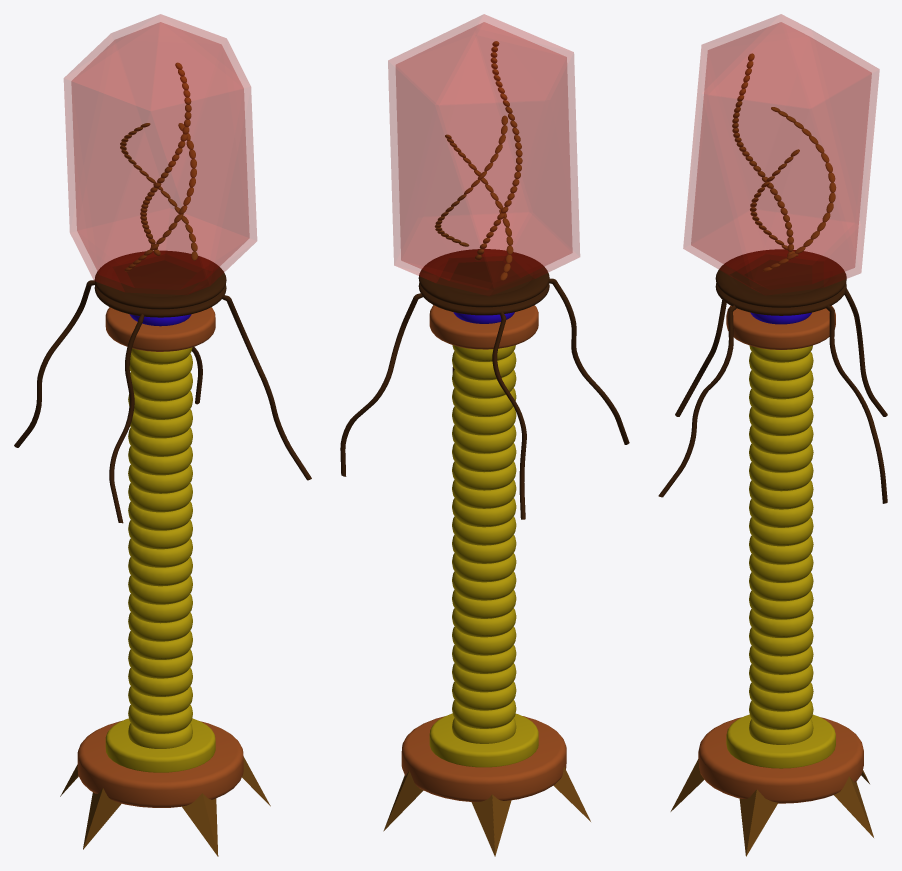
The model's file is cuerpoBac.obj.
3 views of the same model, side by side, from view 1: azimuth 30°, elevation 25°; view 2: azimuth 150°, elevation 25°; view 3: azimuth 270°, elevation 25° (orthographic).
Visible parts, largest first — view 1: Icosphere_Material.011, Torus.023_Material.009, Cylinder.007_Material.008, Torus.001_Material.010, Cylinder.009_Material.010, Cylinder.006_Material.009, Cylinder_Material.008, Sphere_Material.007, Circle.002_Material.007; view 2: Icosphere_Material.011, Torus.023_Material.009, Cylinder.007_Material.008, Torus.001_Material.010, Cylinder.009_Material.010, Cylinder.006_Material.009, Cylinder_Material.008, Sphere_Material.007, Circle.002_Material.007; view 3: Icosphere_Material.011, Torus.023_Material.009, Cylinder.007_Material.008, Torus.001_Material.010, Cylinder.009_Material.010, Cylinder.006_Material.009, Sphere_Material.007, Cylinder_Material.008, Circle.002_Material.007, Torus.025_Material.012.
Boxes of the visible parts, x1,y1,x2,y2 form: Icosphere_Material.011: (64, 14, 256, 294); Torus.023_Material.009: (128, 347, 192, 748); Cylinder.007_Material.008: (77, 720, 243, 807); Torus.001_Material.010: (94, 250, 226, 317); Cylinder.009_Material.010: (14, 280, 311, 523); Cylinder.006_Material.009: (105, 718, 215, 772); Cylinder_Material.008: (105, 307, 215, 351); Sphere_Material.007: (120, 62, 197, 271); Circle.002_Material.007: (60, 757, 270, 856); Icosphere_Material.011: (388, 14, 579, 295); Torus.023_Material.009: (452, 345, 516, 743); Cylinder.007_Material.008: (401, 716, 566, 802); Torus.001_Material.010: (418, 249, 549, 315); Cylinder.009_Material.010: (340, 278, 629, 519); Cylinder.006_Material.009: (429, 713, 538, 767); Cylinder_Material.008: (429, 305, 538, 349); Sphere_Material.007: (434, 41, 522, 280); Circle.002_Material.007: (383, 766, 590, 856); Icosphere_Material.011: (683, 14, 879, 294); Torus.023_Material.009: (749, 345, 813, 744); Cylinder.007_Material.008: (698, 717, 863, 803); Torus.001_Material.010: (715, 249, 846, 315); Cylinder.009_Material.010: (658, 288, 887, 503); Cylinder.006_Material.009: (726, 714, 835, 768); Sphere_Material.007: (732, 53, 836, 271); Cylinder_Material.008: (726, 305, 835, 349); Circle.002_Material.007: (670, 758, 873, 856); Torus.025_Material.012: (750, 312, 811, 324).
Bounding box in the file's own units: 1.53 × 6.29 × 1.64.
